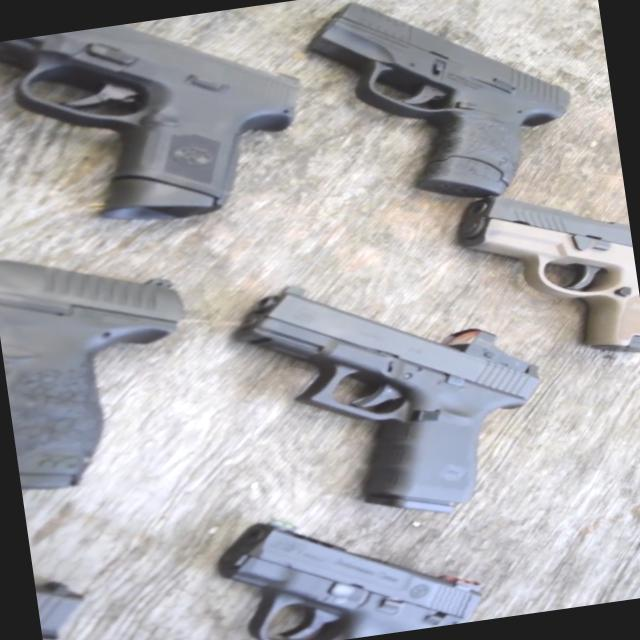handgun: (226, 230, 552, 538), (0, 1, 321, 260), (282, 0, 568, 220), (217, 489, 494, 639), (456, 167, 639, 385)
